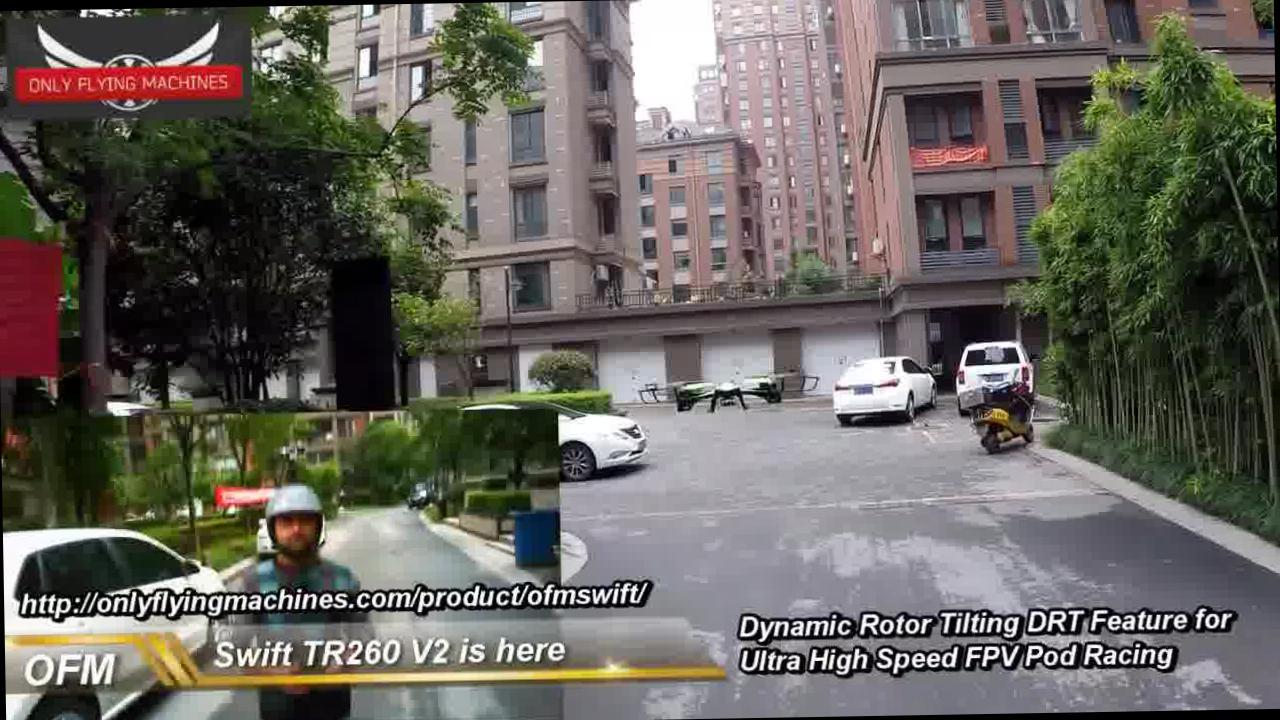drone: (633, 361, 827, 419)
